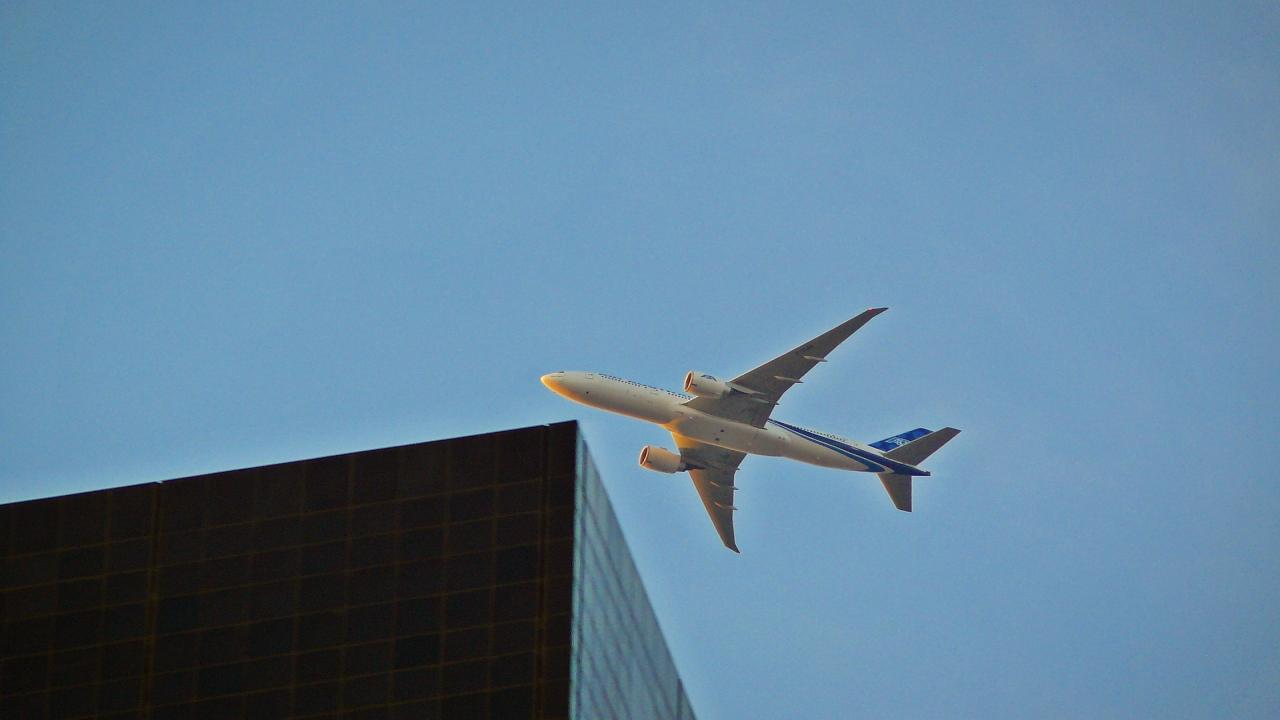Airplane: (532, 295, 972, 563)
